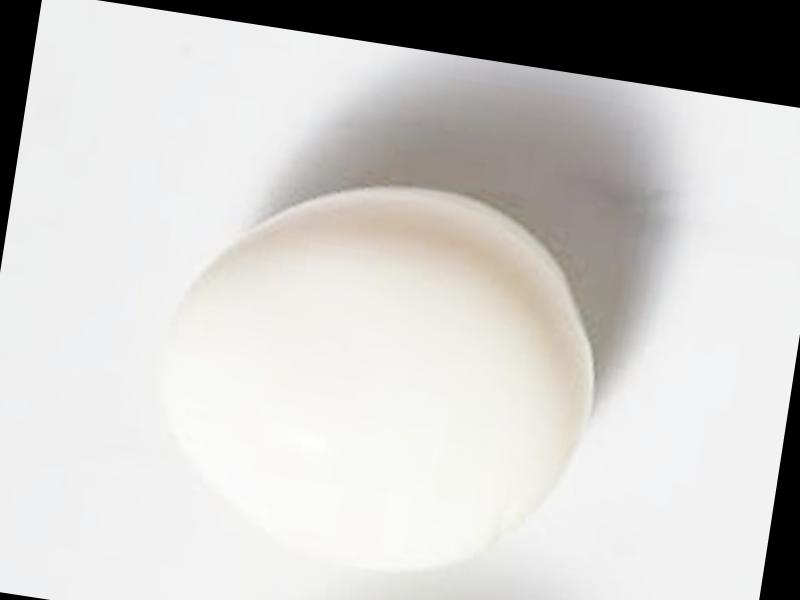Eggs: (139, 154, 621, 598)
